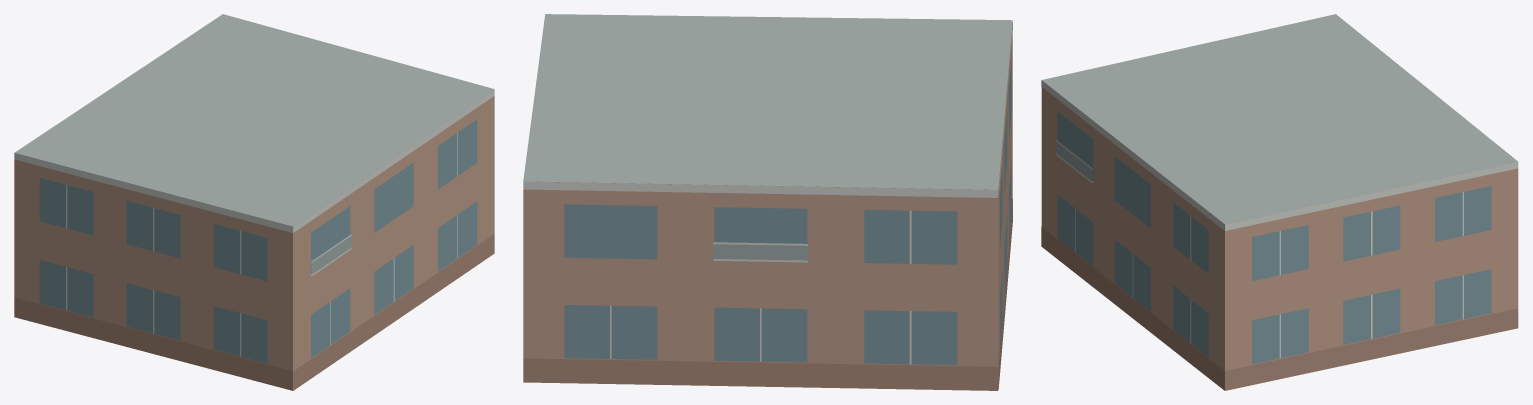
Rendered from survey-upis-32646443.glb.
The picture shows the model from 3 angles, left to right: view 1: azimuth 30°, elevation 25°; view 2: azimuth 150°, elevation 25°; view 3: azimuth 270°, elevation 25°; orthographic projection. The views are drawn at different scales.
Visible parts, largest first — view 1: survey-upis-32646443.tmp; view 2: survey-upis-32646443.tmp; view 3: survey-upis-32646443.tmp.
Boxes of the visible parts, left/top/right/bottom form: survey-upis-32646443.tmp: left=14, top=14, right=494, bottom=390; survey-upis-32646443.tmp: left=523, top=14, right=1012, bottom=390; survey-upis-32646443.tmp: left=1041, top=14, right=1518, bottom=390.
Size of the model in its own units: 16.54 by 6.1 by 15.84.
